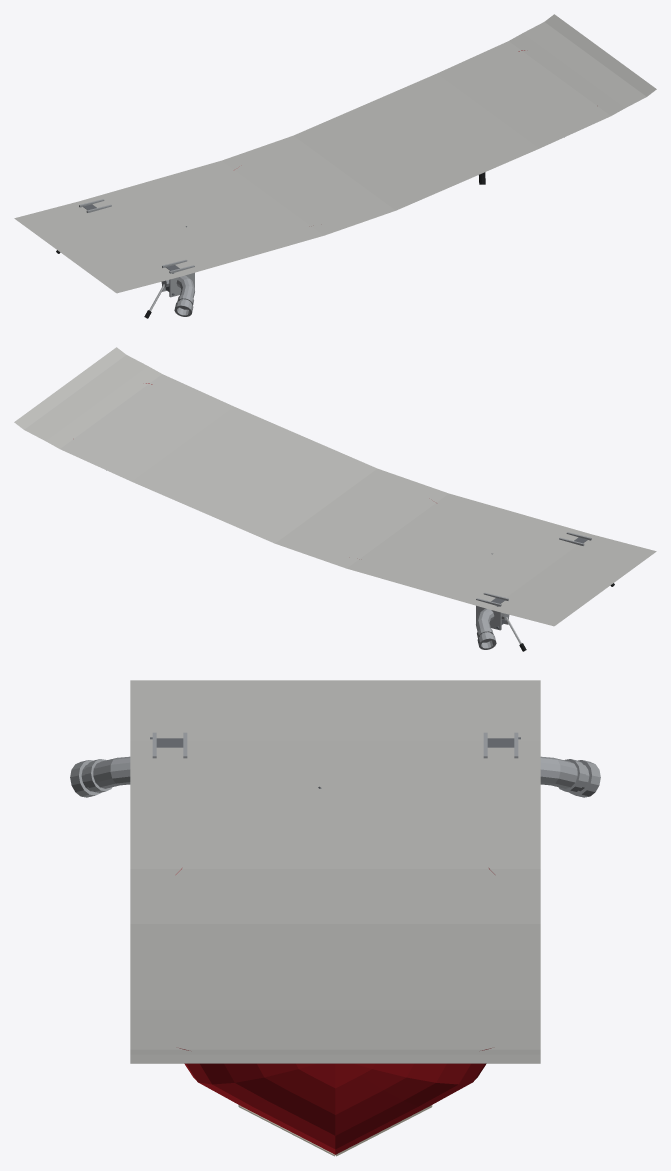
Rendered from compuerta.glb.
3 views of the same model, one above another, from view 1: azimuth 30°, elevation 25°; view 2: azimuth 150°, elevation 25°; view 3: azimuth 270°, elevation 25° (orthographic). The views are drawn at different scales.
Visible parts, largest first — view 1: compuerta_panza, compuerta_carga; view 2: compuerta_panza, compuerta_carga; view 3: compuerta_panza, compuerta_caja, compuerta_carga.
Boxes of the visible parts, x1=… form: compuerta_panza: x1=14, y1=14, x2=656, y2=293; compuerta_carga: x1=56, y1=199, x2=194, y2=318; compuerta_panza: x1=14, y1=347, x2=656, y2=626; compuerta_carga: x1=476, y1=532, x2=614, y2=651; compuerta_panza: x1=130, y1=680, x2=540, y2=1063; compuerta_caja: x1=176, y1=868, x2=494, y2=1156; compuerta_carga: x1=70, y1=732, x2=600, y2=797.
Size of the model in its own units: 3.77 by 0.7588 by 1.6.
